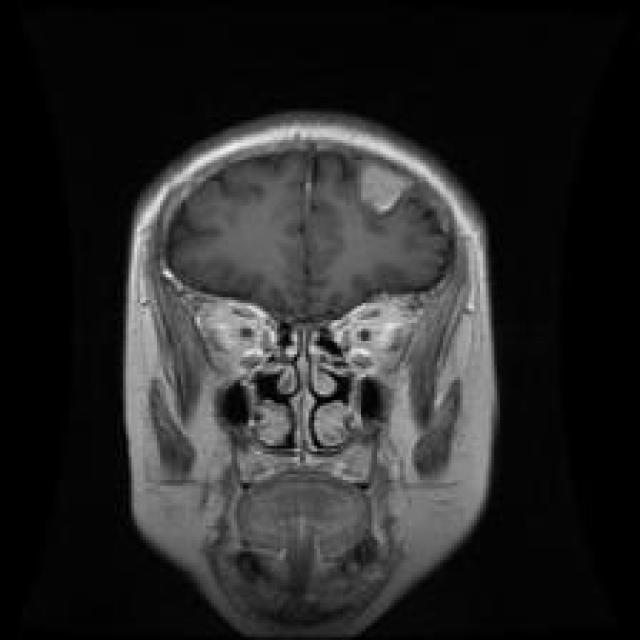meningioma_tumor: (340, 156, 434, 224)
